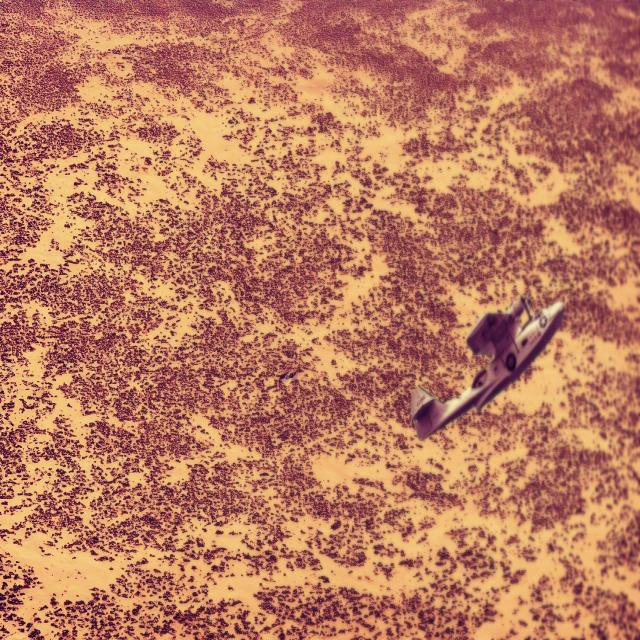airplane: (409, 293, 565, 441)
